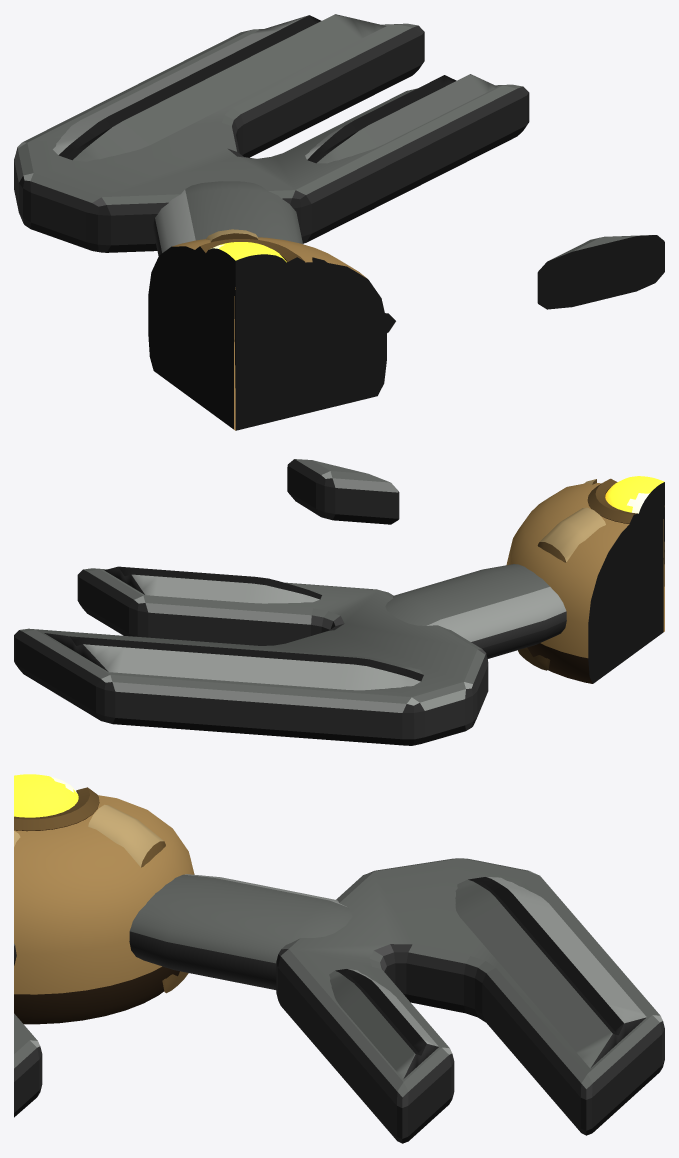
The model's file is spin_claw_15.glb.
3 renders of one model, top to bottom at view 1: azimuth 30°, elevation 25°; view 2: azimuth 150°, elevation 25°; view 3: azimuth 270°, elevation 25°, orthographic. The views are drawn at different scales.
Parts seen in each view (by area): view 1: spin_claw_15_arm0_plate, spin_claw_15_hub_dome, spin_claw_15_arm0_ridge0, spin_claw_15_arm1_plate, spin_claw_15_arm0_rod, spin_claw_15_arm0_ridge1, spin_claw_15_hub_lens, spin_claw_15_arm1_rod, spin_claw_15_hub_bezel; view 2: spin_claw_15_arm0_plate, spin_claw_15_hub_dome, spin_claw_15_arm0_ridge0, spin_claw_15_arm0_rod, spin_claw_15_arm1_plate, spin_claw_15_arm0_ridge1, spin_claw_15_hub_rib0, spin_claw_15_hub_lens, spin_claw_15_hub_bezel; view 3: spin_claw_15_arm0_plate, spin_claw_15_hub_dome, spin_claw_15_arm0_rod, spin_claw_15_arm0_ridge0, spin_claw_15_arm0_ridge1, spin_claw_15_hub_rib0, spin_claw_15_hub_lens, spin_claw_15_arm1_plate, spin_claw_15_hub_bezel.
Part boxes in pixels (bbox=[...]): spin_claw_15_arm0_plate: bbox=[14, 23, 529, 252]; spin_claw_15_hub_dome: bbox=[148, 237, 386, 430]; spin_claw_15_arm0_ridge0: bbox=[53, 14, 386, 161]; spin_claw_15_arm1_plate: bbox=[537, 235, 664, 309]; spin_claw_15_arm0_rod: bbox=[152, 181, 303, 255]; spin_claw_15_arm0_ridge1: bbox=[305, 74, 497, 163]; spin_claw_15_hub_lens: bbox=[205, 242, 288, 291]; spin_claw_15_arm1_rod: bbox=[342, 311, 395, 355]; spin_claw_15_hub_bezel: bbox=[195, 239, 305, 289]; spin_claw_15_arm0_plate: bbox=[14, 568, 488, 745]; spin_claw_15_hub_dome: bbox=[506, 483, 664, 683]; spin_claw_15_arm0_ridge0: bbox=[44, 633, 423, 690]; spin_claw_15_arm0_rod: bbox=[385, 564, 566, 658]; spin_claw_15_arm1_plate: bbox=[287, 459, 399, 524]; spin_claw_15_arm0_ridge1: bbox=[104, 566, 321, 603]; spin_claw_15_hub_rib0: bbox=[518, 507, 605, 670]; spin_claw_15_hub_lens: bbox=[605, 476, 664, 529]; spin_claw_15_hub_bezel: bbox=[587, 478, 664, 532]; spin_claw_15_arm0_plate: bbox=[276, 858, 664, 1143]; spin_claw_15_hub_dome: bbox=[14, 795, 194, 1024]; spin_claw_15_arm0_rod: bbox=[129, 874, 352, 989]; spin_claw_15_arm0_ridge0: bbox=[455, 876, 646, 1068]; spin_claw_15_arm0_ridge1: bbox=[329, 968, 438, 1079]; spin_claw_15_hub_rib0: bbox=[88, 804, 188, 993]; spin_claw_15_hub_lens: bbox=[14, 774, 78, 817]; spin_claw_15_arm1_plate: bbox=[14, 1013, 42, 1117]; spin_claw_15_hub_bezel: bbox=[14, 787, 99, 831].
Bounding box in the file's own units: 18.16 × 6.22 × 20.53.
